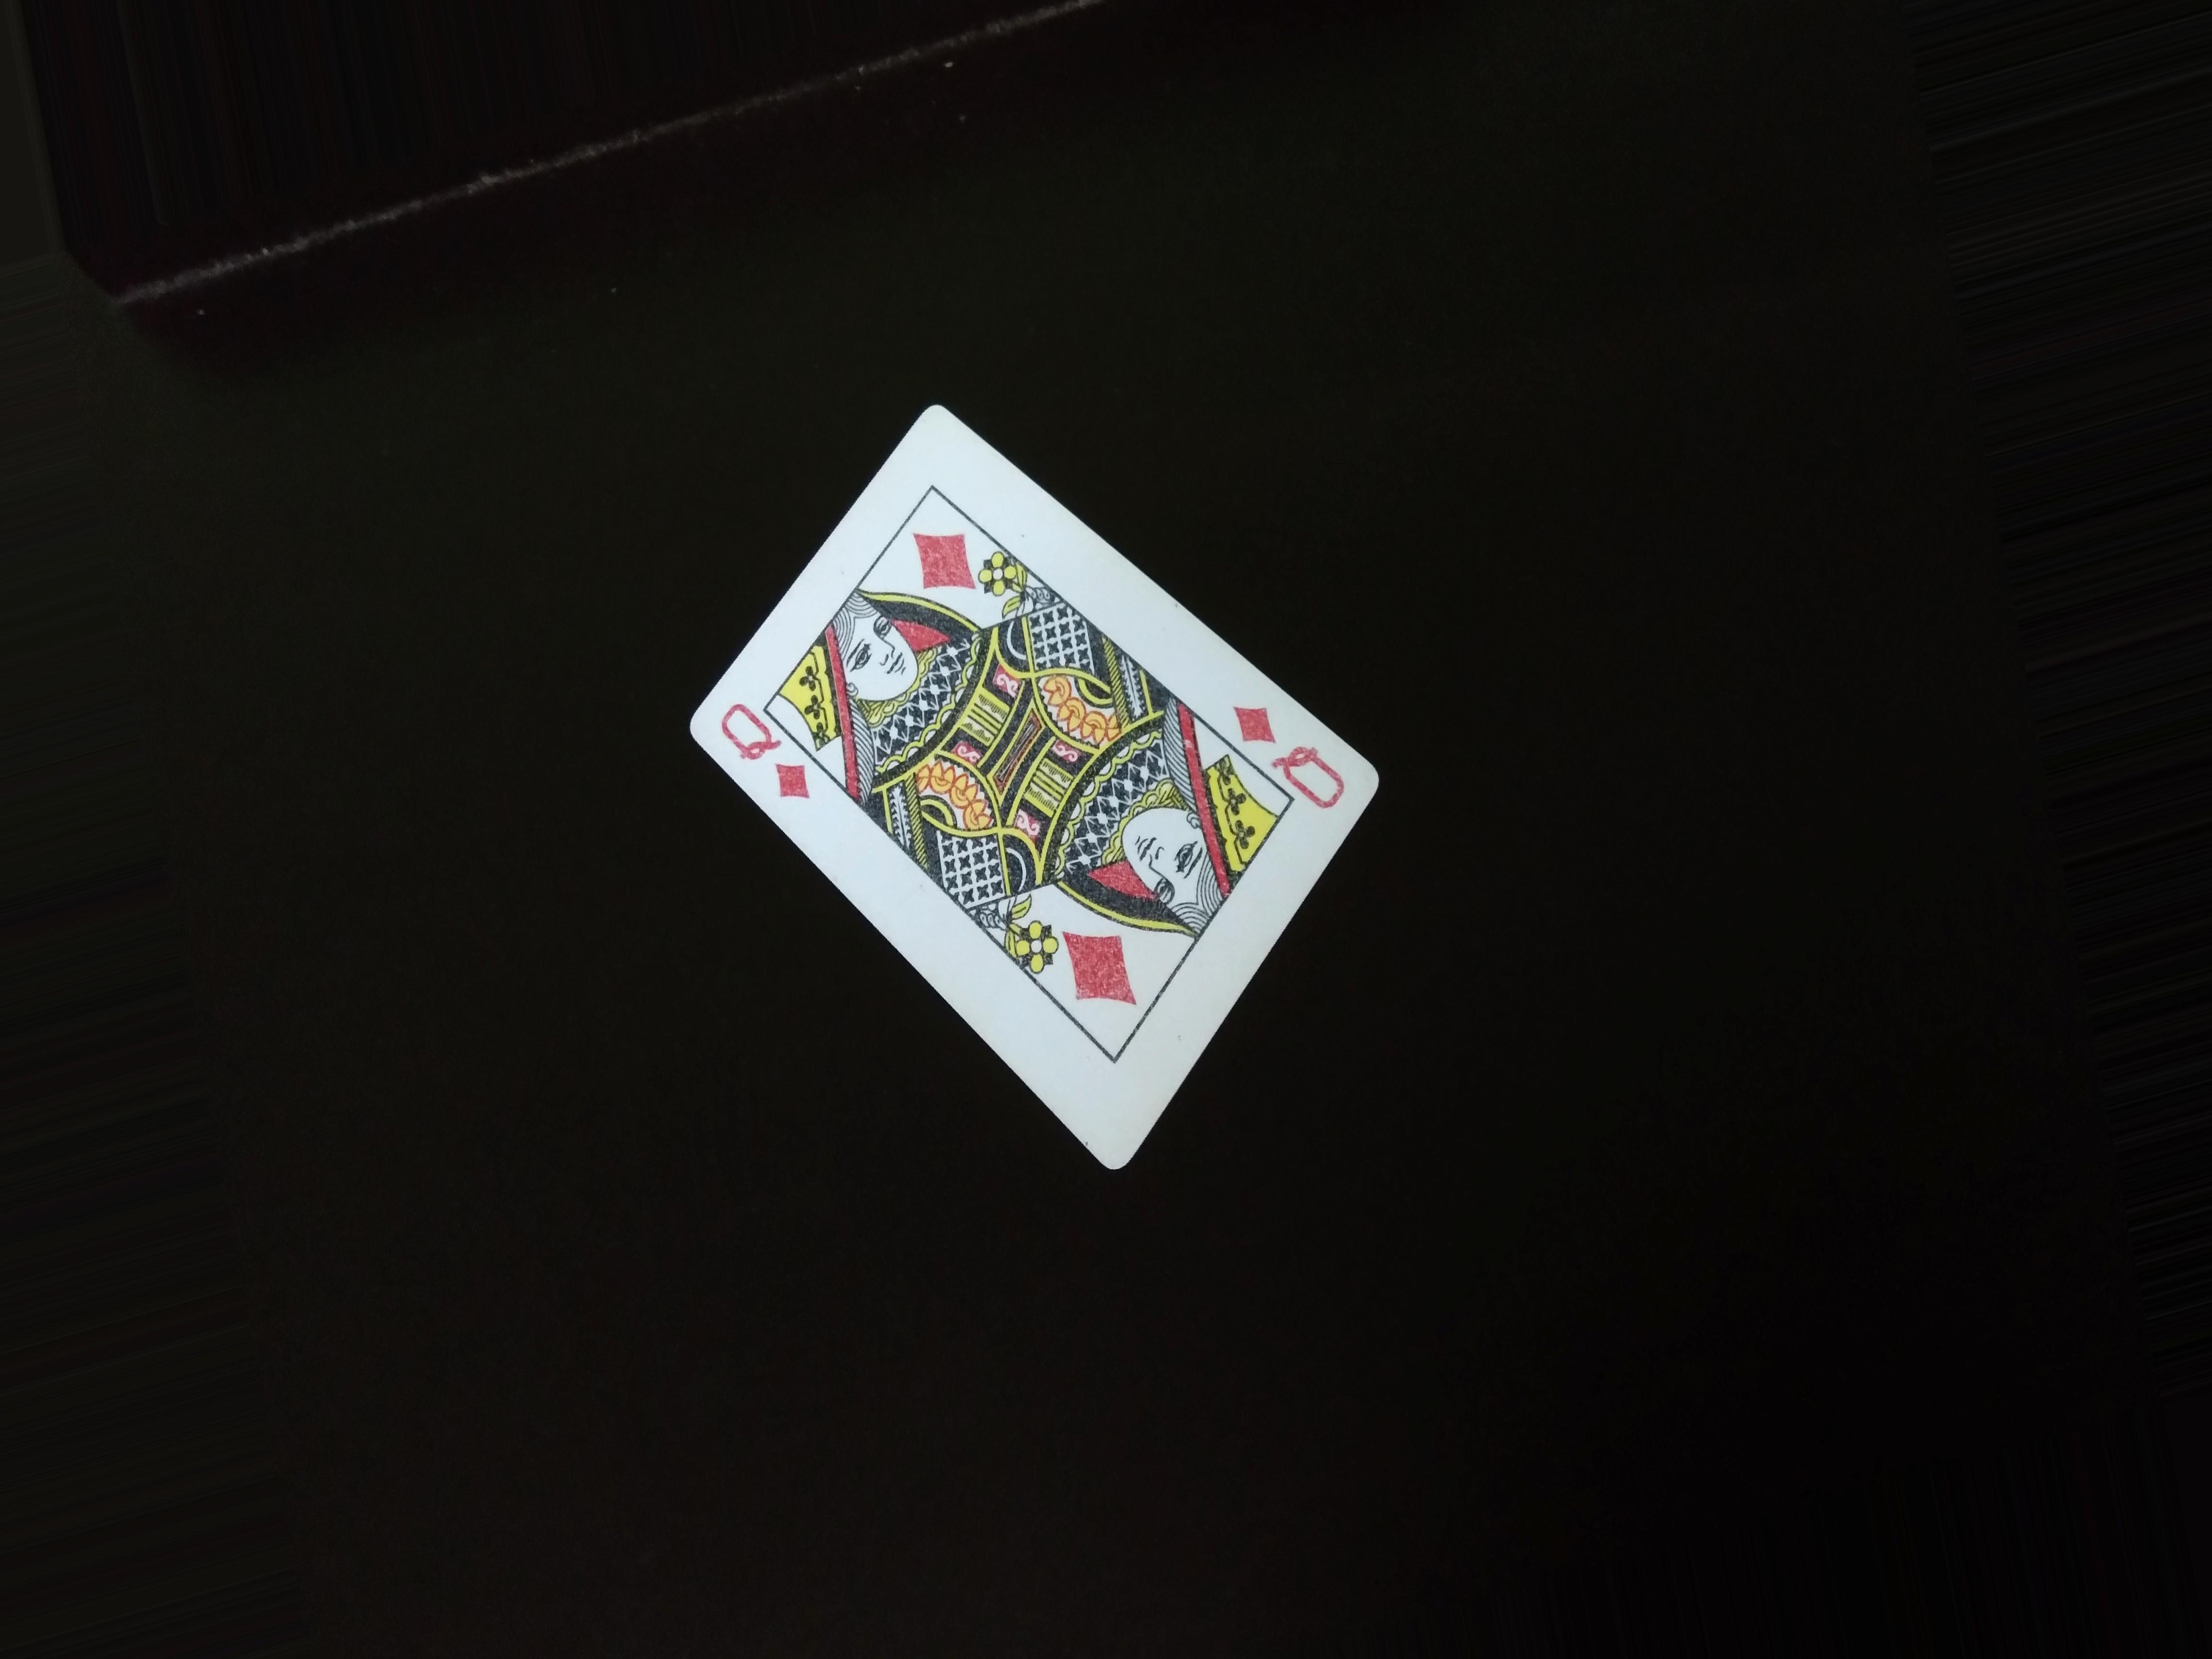QD: (712, 687, 819, 817)
